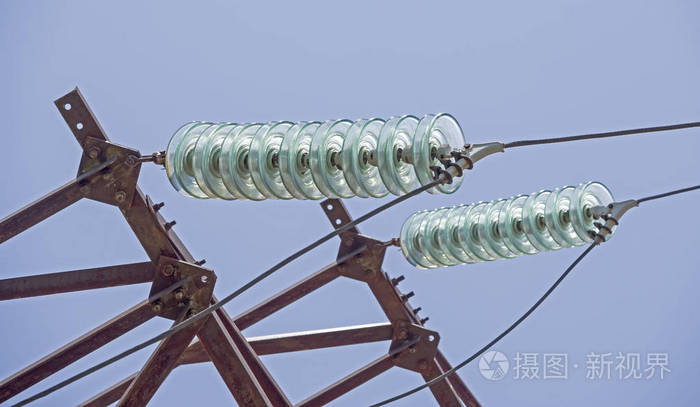insulator: (164, 112, 470, 202), (401, 184, 618, 269)
